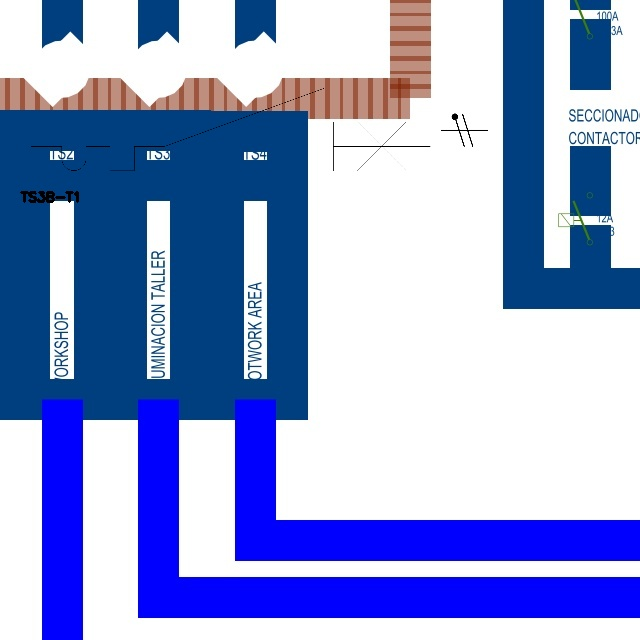interruptor_termomagnetico: (21, 78, 441, 181)
